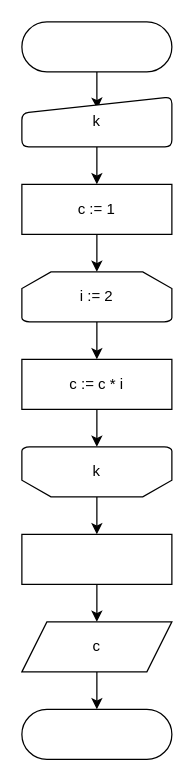
The diagram is 194 pixels wide and 781 high, and some of its shapes have lost their labels. Here are the shapes that lost their labels. From the top down, the centre of each, then its label:
At (96,46): "Начало".
At (96,558): "c := c * k".
At (96,733): "Конец".
